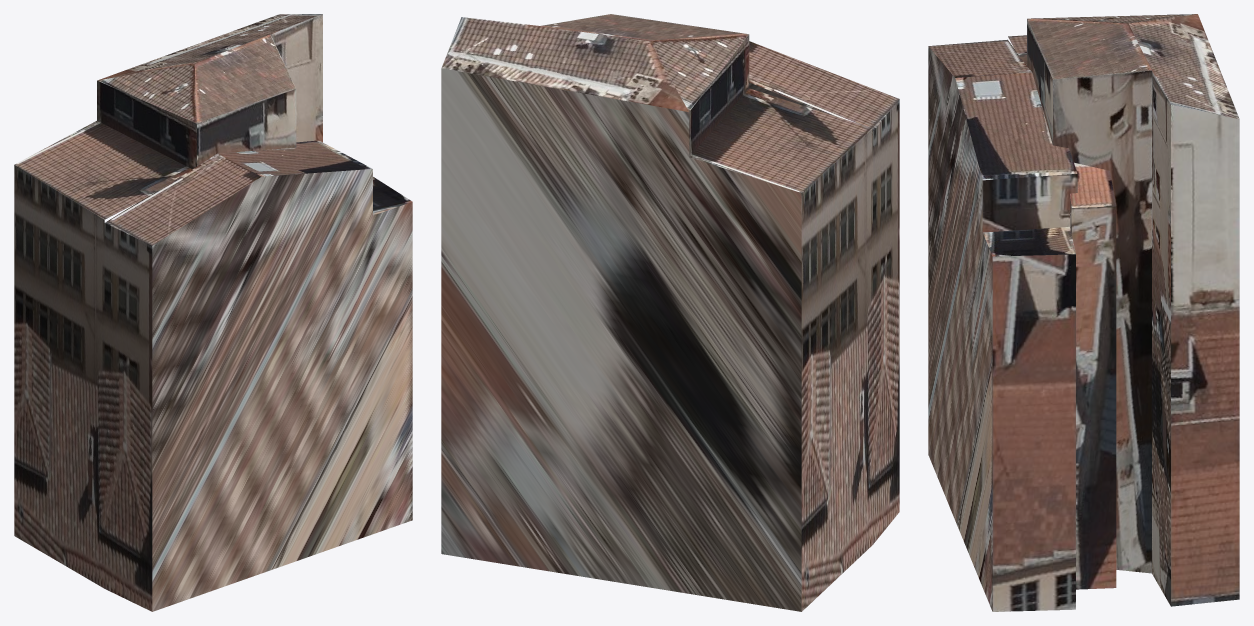
3 renders of one model, left to right at view 1: azimuth 30°, elevation 25°; view 2: azimuth 150°, elevation 25°; view 3: azimuth 270°, elevation 25°, orthographic. The views are drawn at different scales.
Parts seen in each view (by area): view 1: Z_UP; view 2: Z_UP; view 3: Z_UP.
Part boxes in pixels (<box>): Z_UP: <box>14,14,412,611</box>; Z_UP: <box>441,14,899,611</box>; Z_UP: <box>928,14,1239,611</box>.
Size of the model in its own units: 17.53 by 23.99 by 13.46.
Materials: 2 (1 with a texture image).
